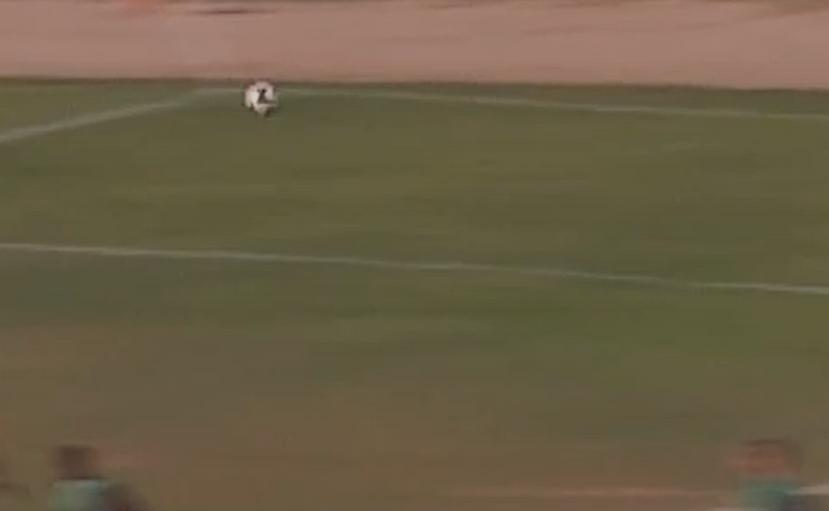ball: (229, 66, 291, 127)
